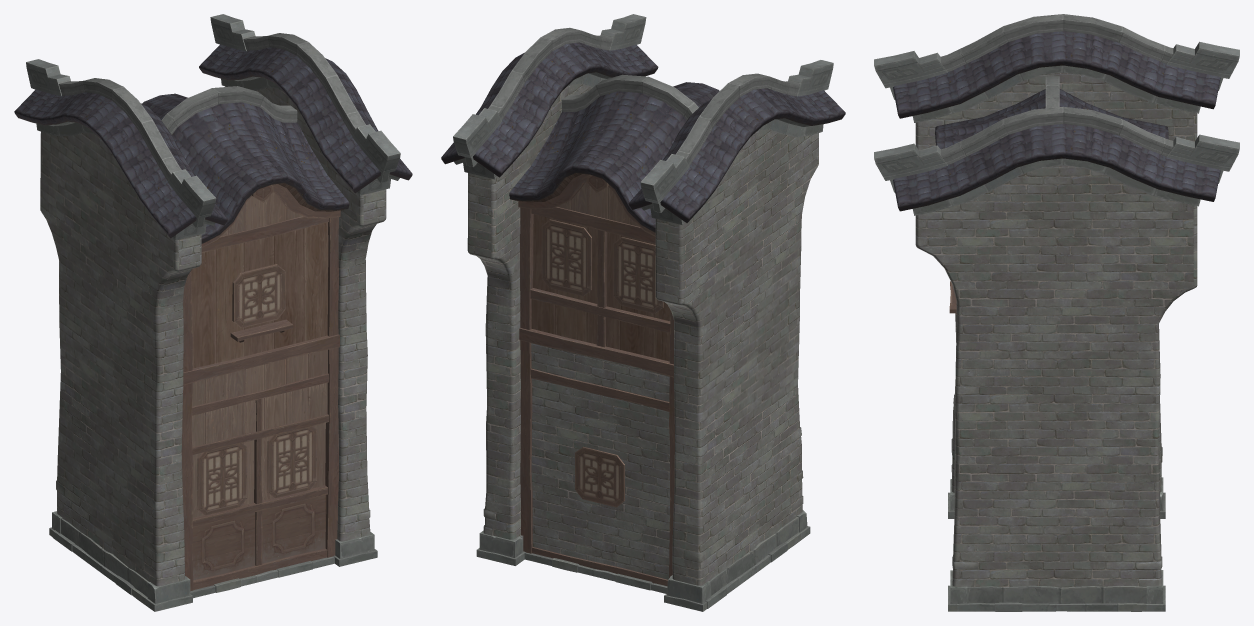
The model's file is Homeworld_Exterior_Cyg_Build_YlbHuishi_06_Lod0.fbx.
3 renders of one model, left to right at view 1: azimuth 30°, elevation 25°; view 2: azimuth 150°, elevation 25°; view 3: azimuth 270°, elevation 25°, orthographic. The views are drawn at different scales.
Visible parts, largest first — view 1: Area_Cyg_Build_QYZ_Comp_Huishi_F_01_Lod0; view 2: Area_Cyg_Build_QYZ_Comp_Huishi_F_01_Lod0; view 3: Area_Cyg_Build_QYZ_Comp_Huishi_F_01_Lod0.
Part boxes in pixels (x1,y1,x2,y2): Area_Cyg_Build_QYZ_Comp_Huishi_F_01_Lod0: (14,14,412,611); Area_Cyg_Build_QYZ_Comp_Huishi_F_01_Lod0: (441,14,845,611); Area_Cyg_Build_QYZ_Comp_Huishi_F_01_Lod0: (874,14,1239,611).
Size of the model in its own units: 6.35 by 11.7 by 7.88.
